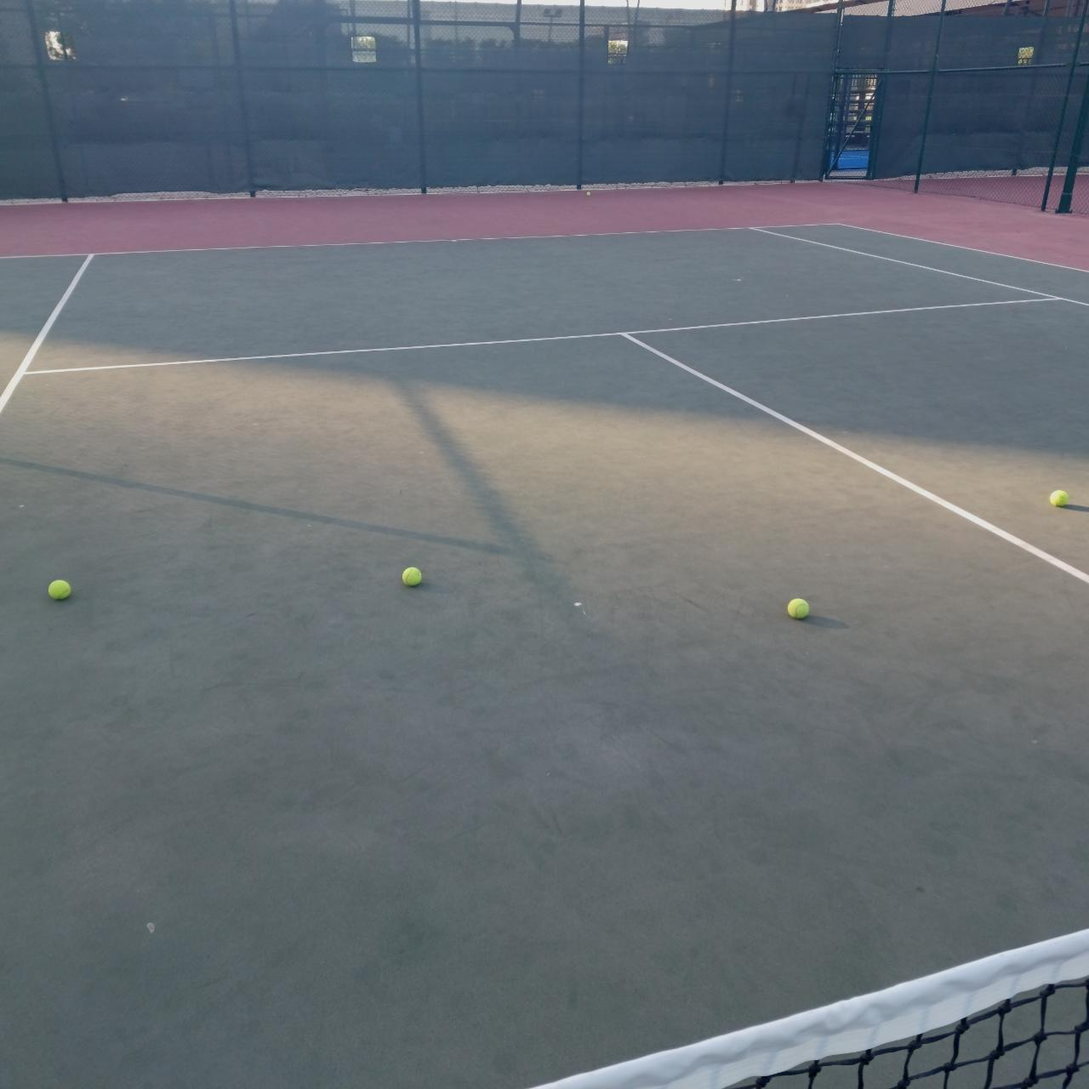tennis-ball: (785, 595, 810, 619), (46, 576, 71, 600), (400, 564, 423, 587), (1047, 487, 1069, 507), (586, 192, 590, 196)
